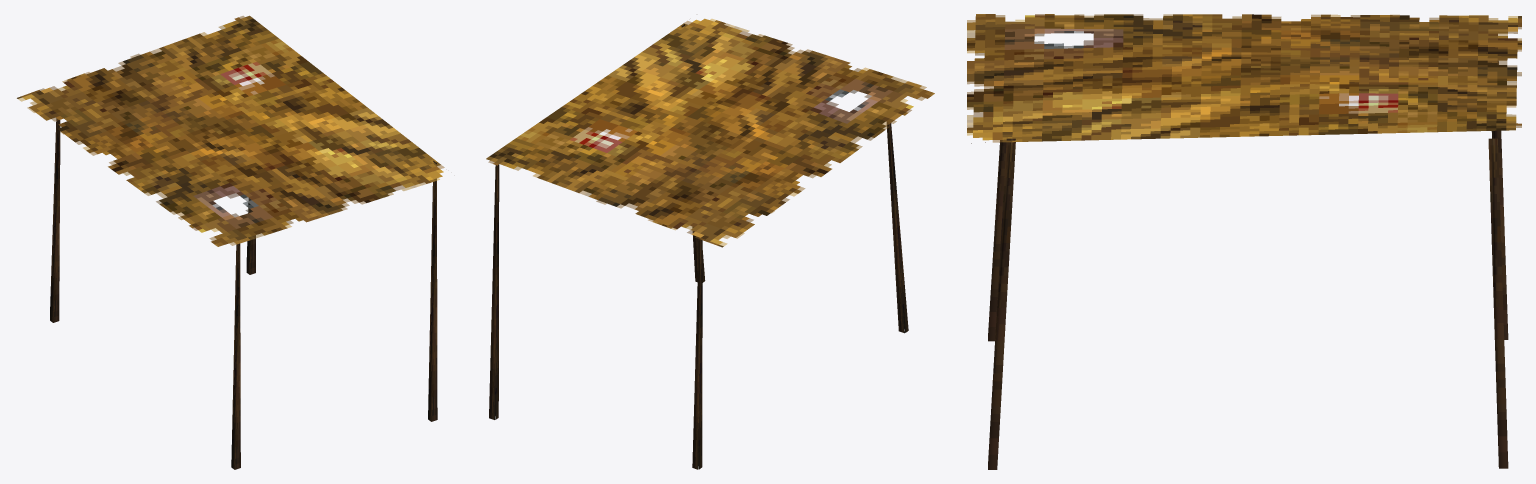
The model's file is Environment - Prop - Canvas Sun Shader - PMCnvsShd.glb.
3 views of the same model, side by side, from view 1: azimuth 30°, elevation 25°; view 2: azimuth 150°, elevation 25°; view 3: azimuth 270°, elevation 25° (orthographic). The views are drawn at different scales.
Parts seen in each view (by area): view 1: PMCNVSSHD; view 2: PMCNVSSHD; view 3: PMCNVSSHD.
Boxes of the visible parts, x1,y1,x2,y2 form: PMCNVSSHD: [17, 15, 444, 469]; PMCNVSSHD: [486, 18, 934, 469]; PMCNVSSHD: [967, 14, 1521, 469].
Bounding box in the file's own units: 14.55 × 15.4 × 22.35.
Materials: 1 (1 with a texture image).
